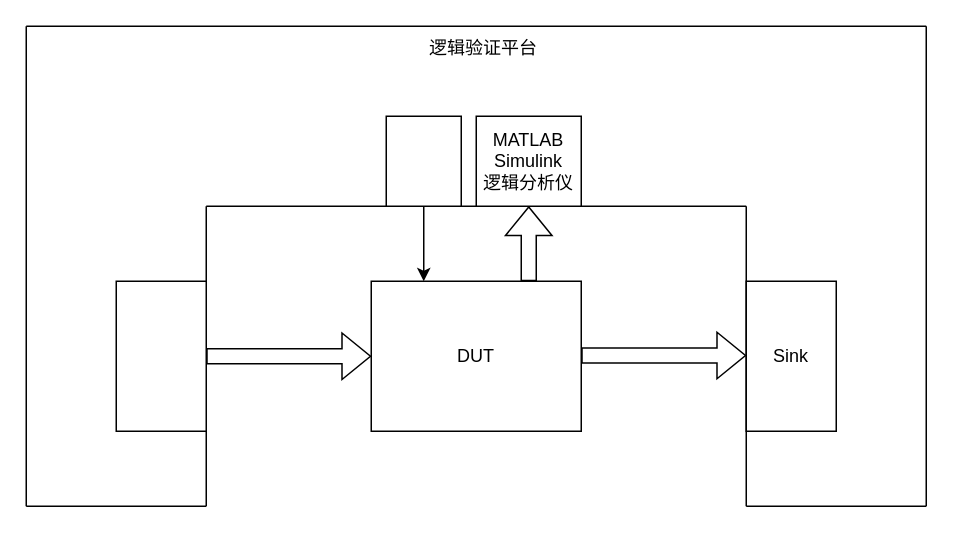
The diagram is 954 pixels wide and 534 high, and some of its shapes have lost their labels. The centre of each missing label's shape, as x and y in pixels:
Source: the point at 160,355
配置: the point at 423,160
